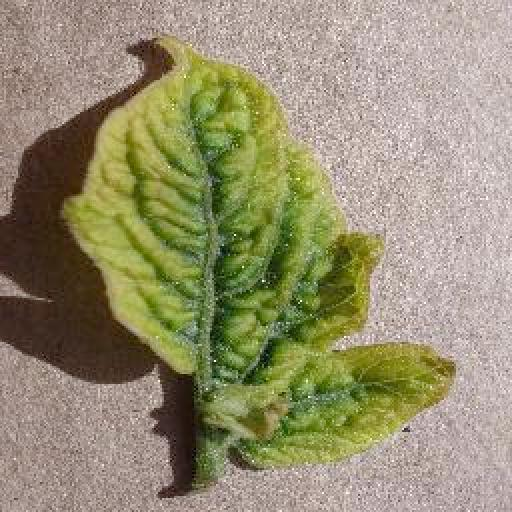disease_tomato: (65, 33, 459, 475)
